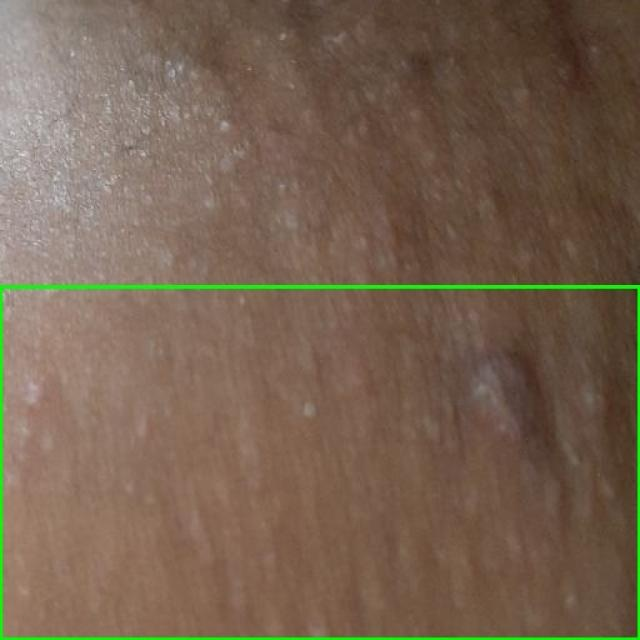Scabies: (0, 286, 639, 639)
